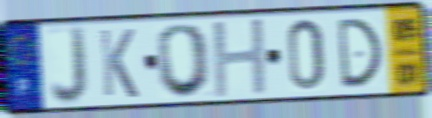0: (285, 16, 328, 95)
D: (335, 15, 385, 92)
H: (209, 15, 271, 102)
J: (48, 24, 90, 108)
K: (97, 27, 141, 100)
O: (155, 21, 214, 100)
